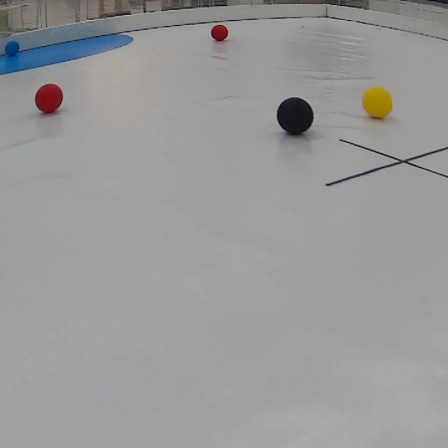black: (277, 92, 321, 139)
blue: (3, 40, 23, 58)
blue_base: (0, 34, 134, 76)
red: (32, 82, 68, 111), (210, 25, 228, 40)
yellow: (360, 85, 392, 118)
